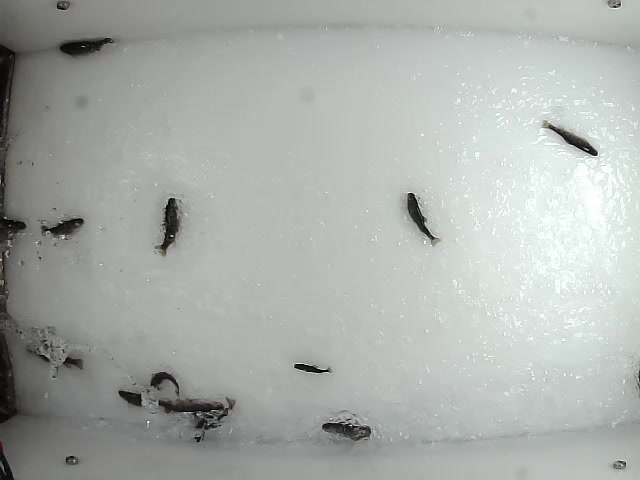fish: (539, 118, 599, 157), (404, 191, 442, 249), (157, 391, 238, 415), (151, 197, 181, 259), (21, 345, 87, 372), (115, 390, 189, 414), (58, 35, 114, 57), (319, 419, 374, 441), (39, 214, 84, 238), (149, 369, 179, 396), (291, 361, 333, 374)
